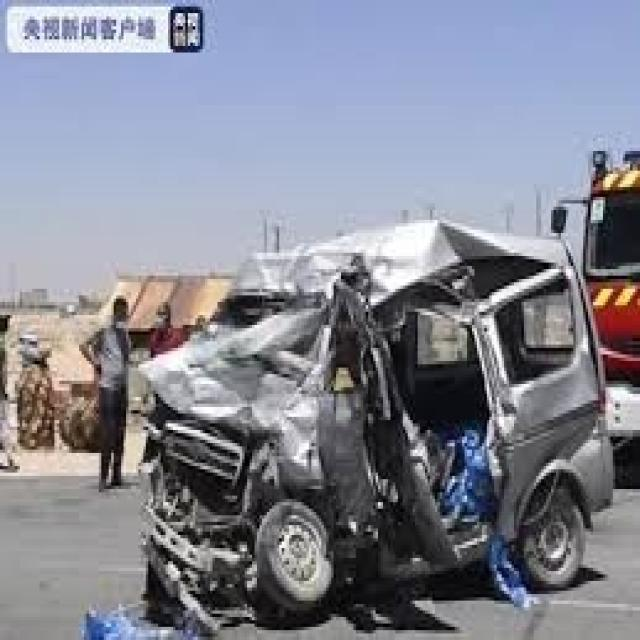accident: (102, 223, 620, 606)
